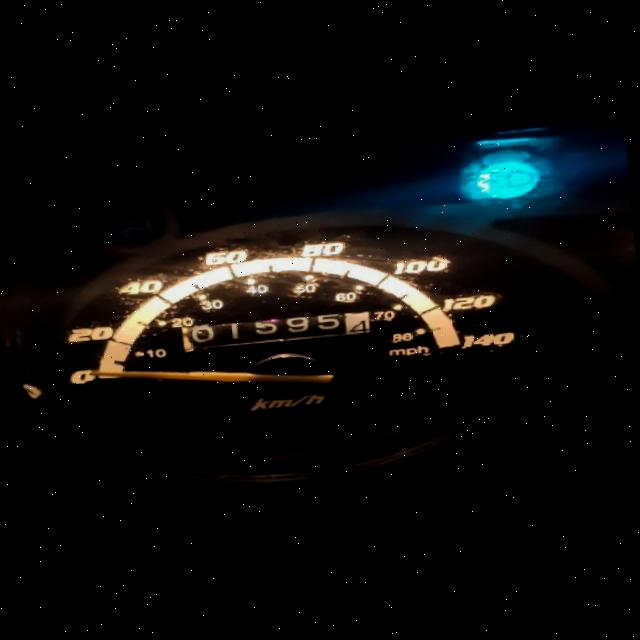odometer: (171, 308, 375, 356)
